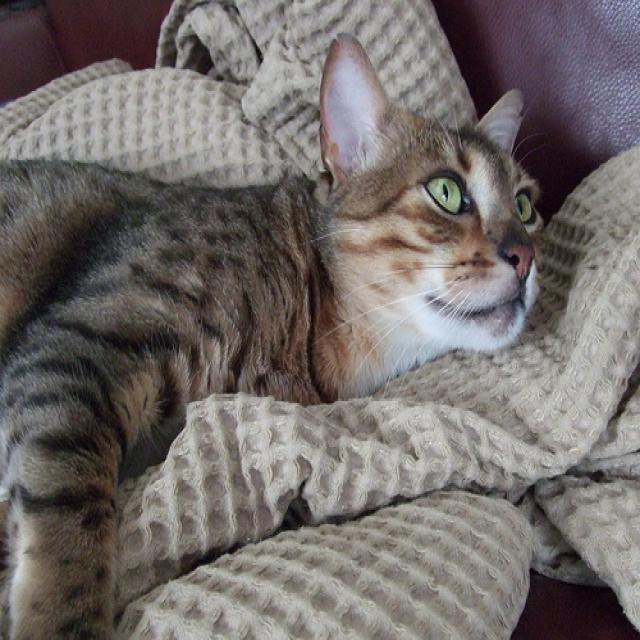Egyptian_Mau: (311, 29, 553, 376)
